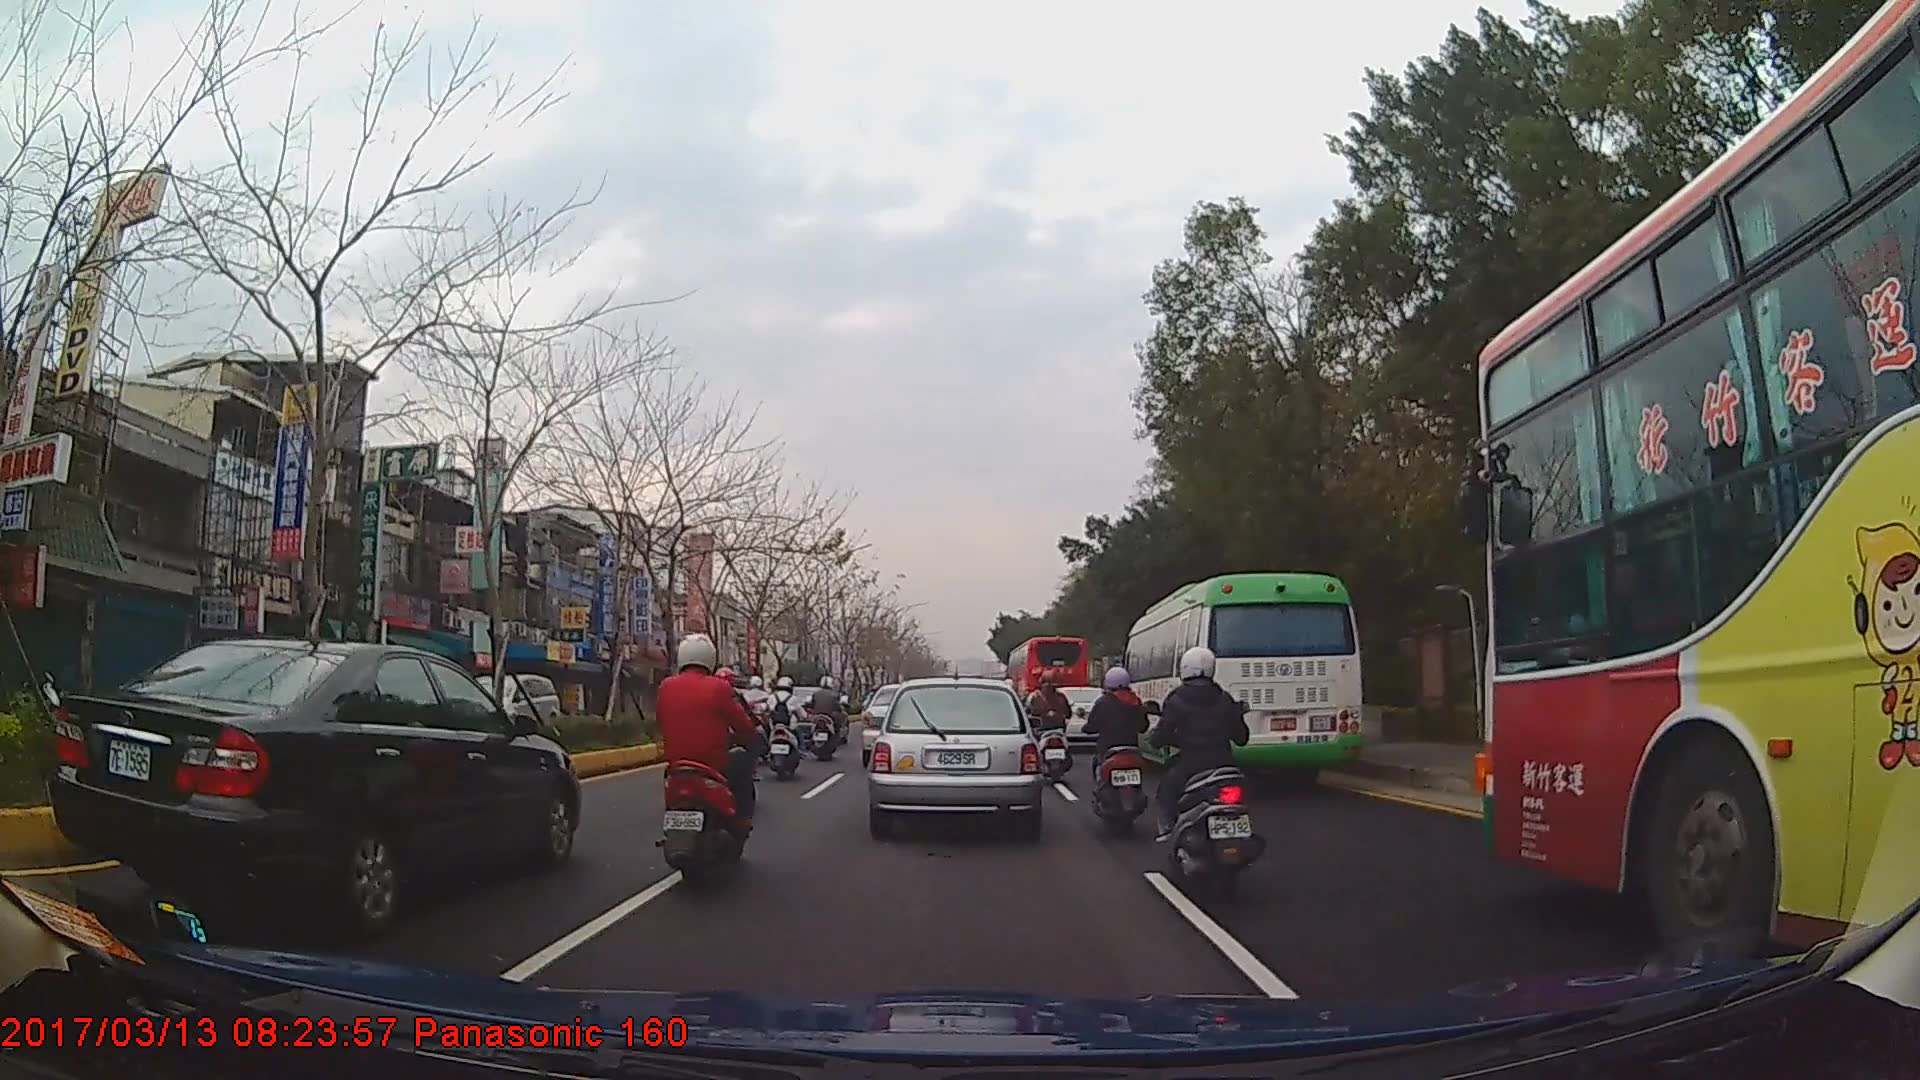rider: (645, 629, 759, 894), (1151, 646, 1268, 895), (1081, 663, 1155, 836), (693, 664, 765, 808), (1031, 666, 1075, 787), (764, 675, 810, 779), (813, 676, 851, 760), (740, 674, 781, 748)
vehicle: (1475, 0, 1920, 971), (52, 633, 580, 930), (1119, 572, 1362, 787), (869, 675, 1037, 834), (435, 671, 561, 746), (1005, 634, 1088, 729)
